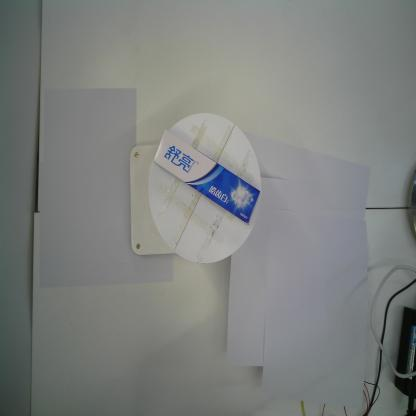Personal Hygiene: (152, 129, 260, 226)
